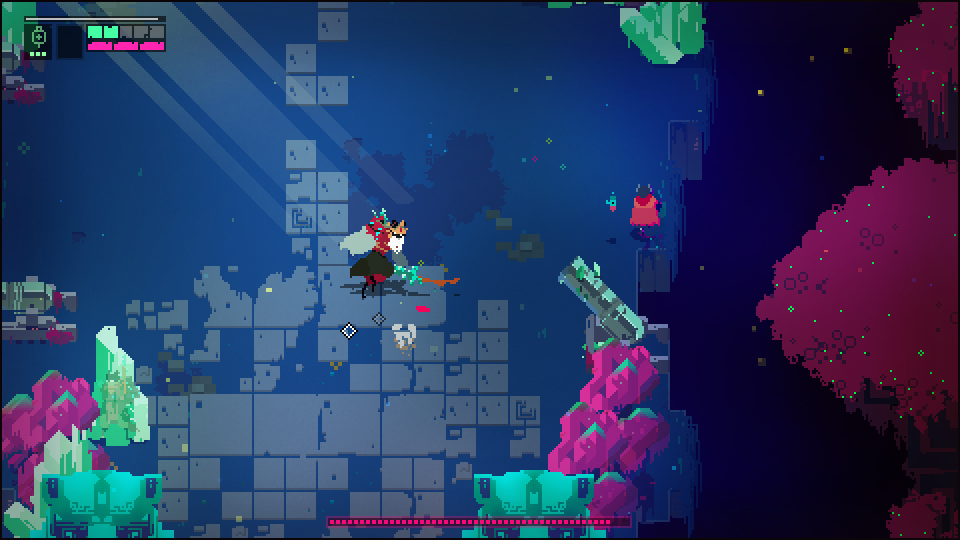hanged_man: (341, 208, 424, 287)
player: (629, 181, 657, 237)
